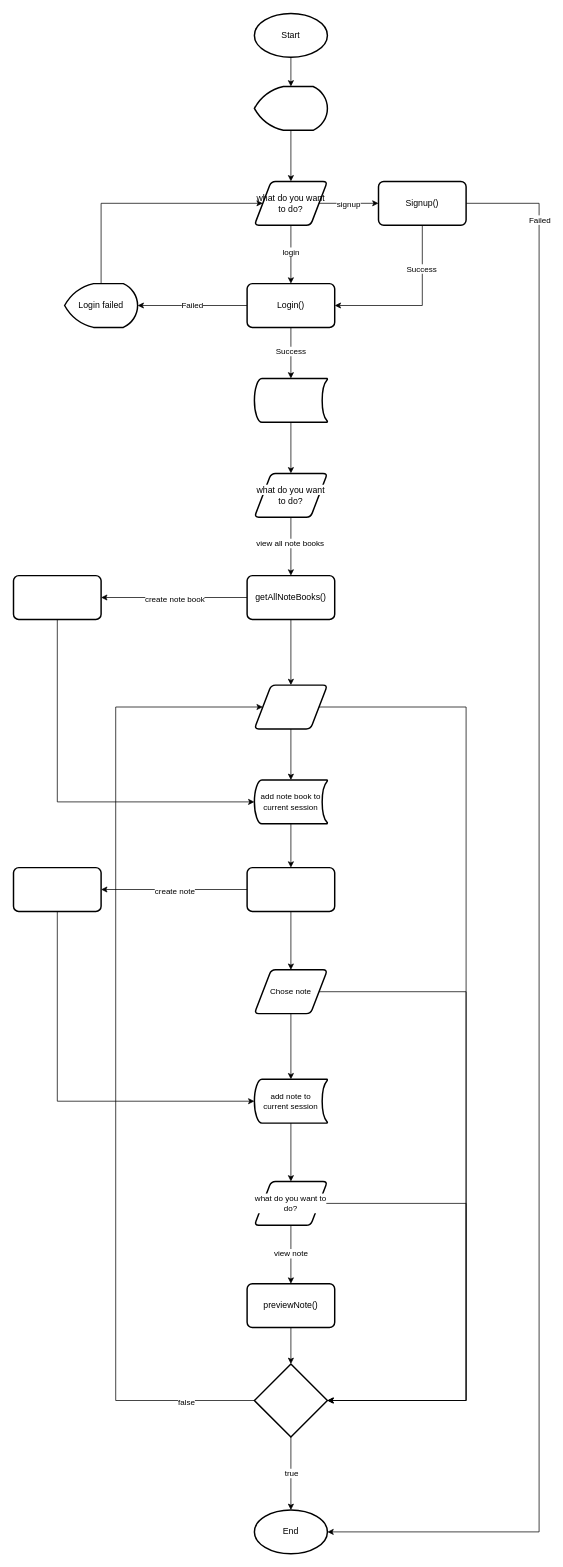
Some shapes in this 563 by 1567 pixel diagram are drawn without their labels. Here are the shapes that lost their labels. From the top down, the centre of each, then its label:
At (290,108): "Simple Notes Management System".
At (290,400): "add user to current session".
At (56,597): "CreateNoteBook()".
At (290,706): "Chose note book".
At (56,889): "CreateNote()".
At (290,889): "get AllNotes()".
At (290,1400): "exit?".
